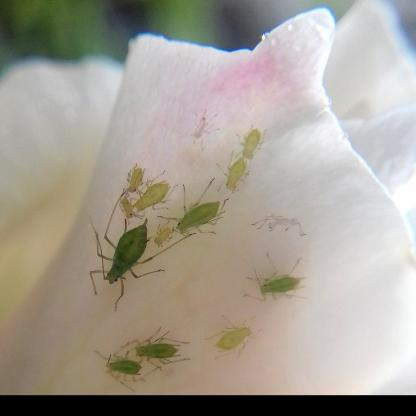aphid: (86, 217, 174, 307), (171, 192, 237, 240), (130, 325, 199, 368), (96, 344, 150, 389), (254, 263, 307, 303), (210, 319, 254, 361), (128, 179, 174, 215), (221, 157, 260, 193), (233, 120, 266, 161), (118, 166, 158, 196), (154, 214, 178, 254)
